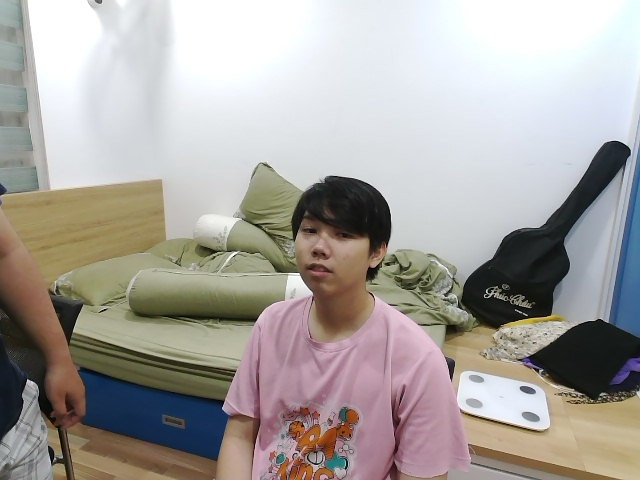face: (290, 176, 391, 298)
